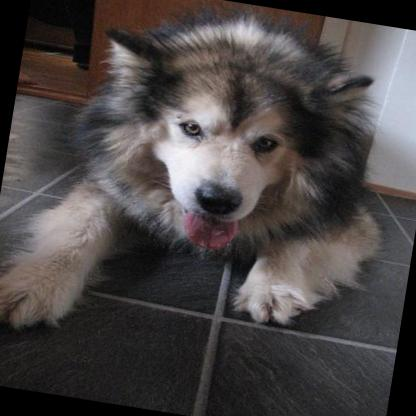malamute: (0, 0, 413, 389)
